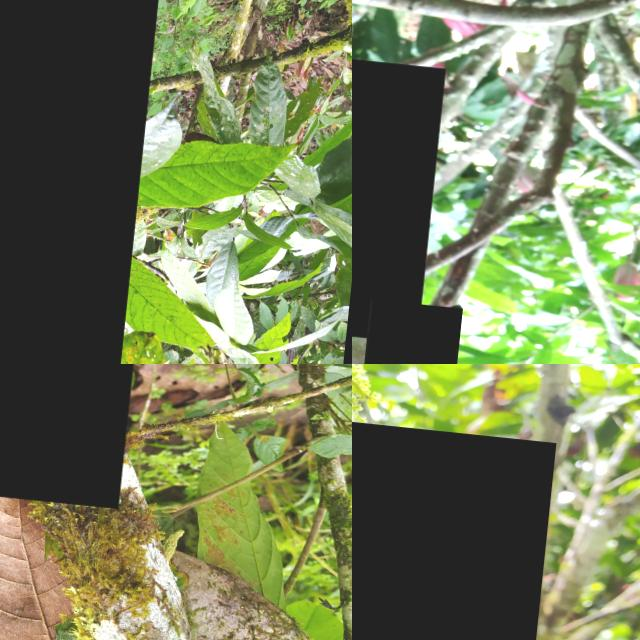Fitoftora: (0, 0, 164, 364), (352, 406, 558, 640), (352, 41, 450, 335), (0, 364, 158, 500), (372, 292, 472, 364)
